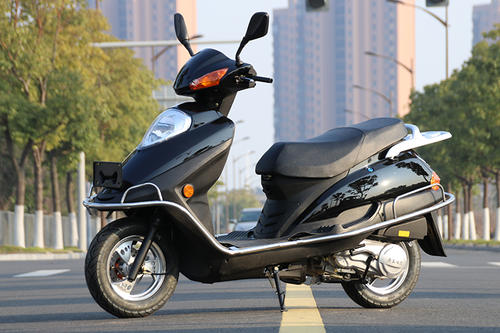motor: (76, 36, 456, 317)
